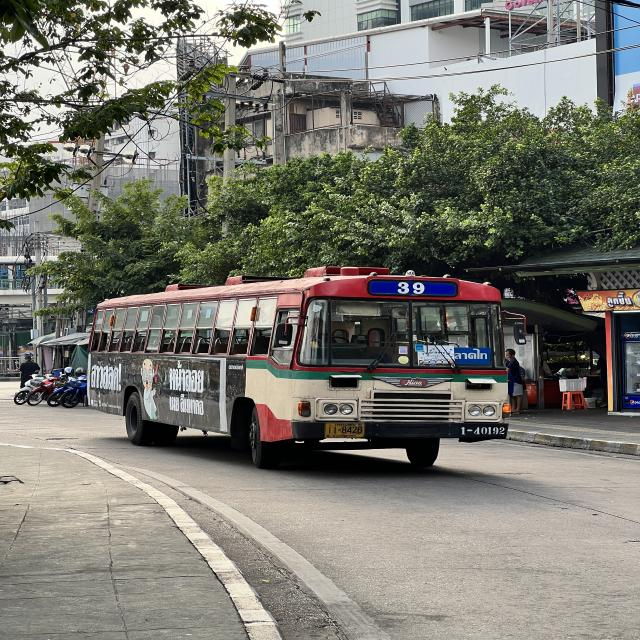BMTA-bus: (86, 266, 515, 472)
Bus Line Number: (394, 280, 428, 295)
Bus Side Number: (457, 422, 507, 440)
Destination Sign: (454, 347, 490, 366)
